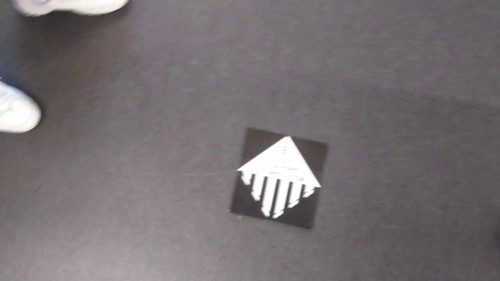misgoods: (230, 134, 326, 220)
